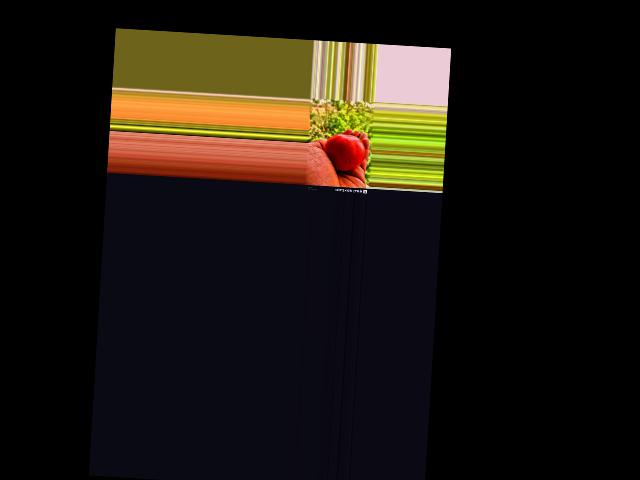tomato: (322, 133, 365, 172)
